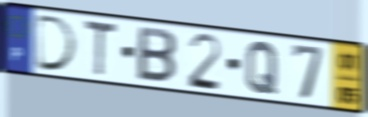2: (186, 31, 223, 93)
7: (289, 42, 328, 103)
B: (135, 24, 179, 86)
D: (33, 13, 81, 74)
Q: (244, 40, 281, 97)
T: (82, 17, 119, 80)
